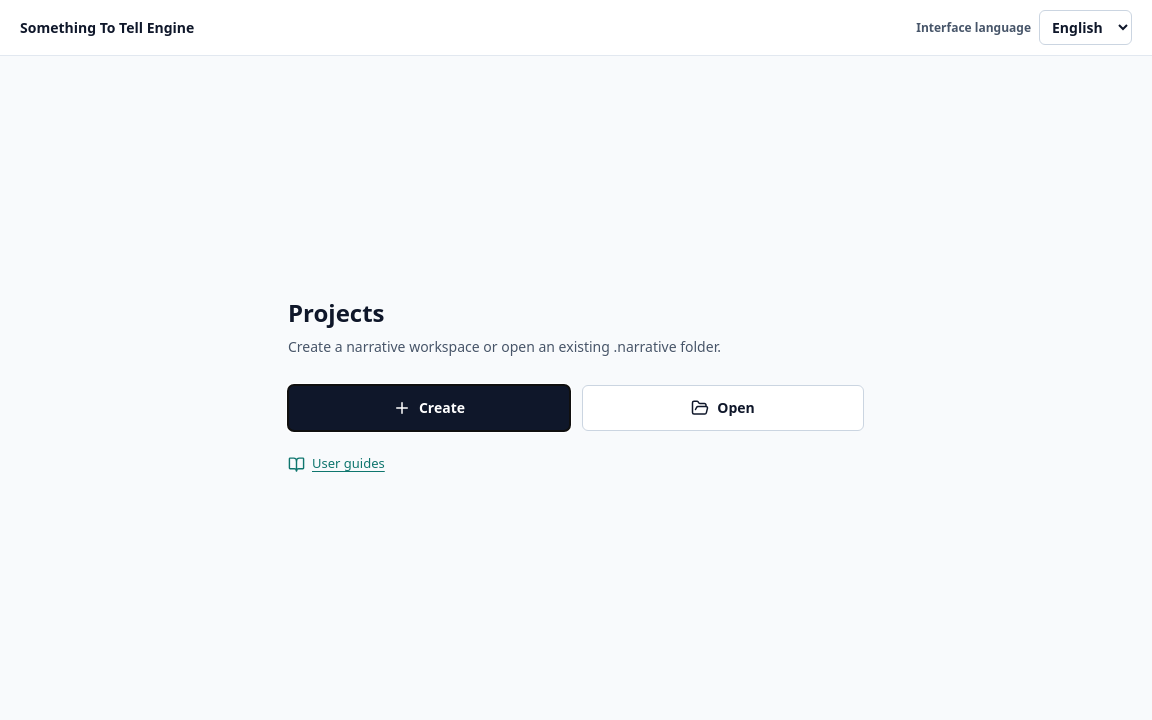
Test: App shell, sessions, and playback › selects a Create parent from the browser directory tree
This screenshot has width=1152, height=720.
Click the button "Create". click: (429, 408)
box: [288,385,570,431]
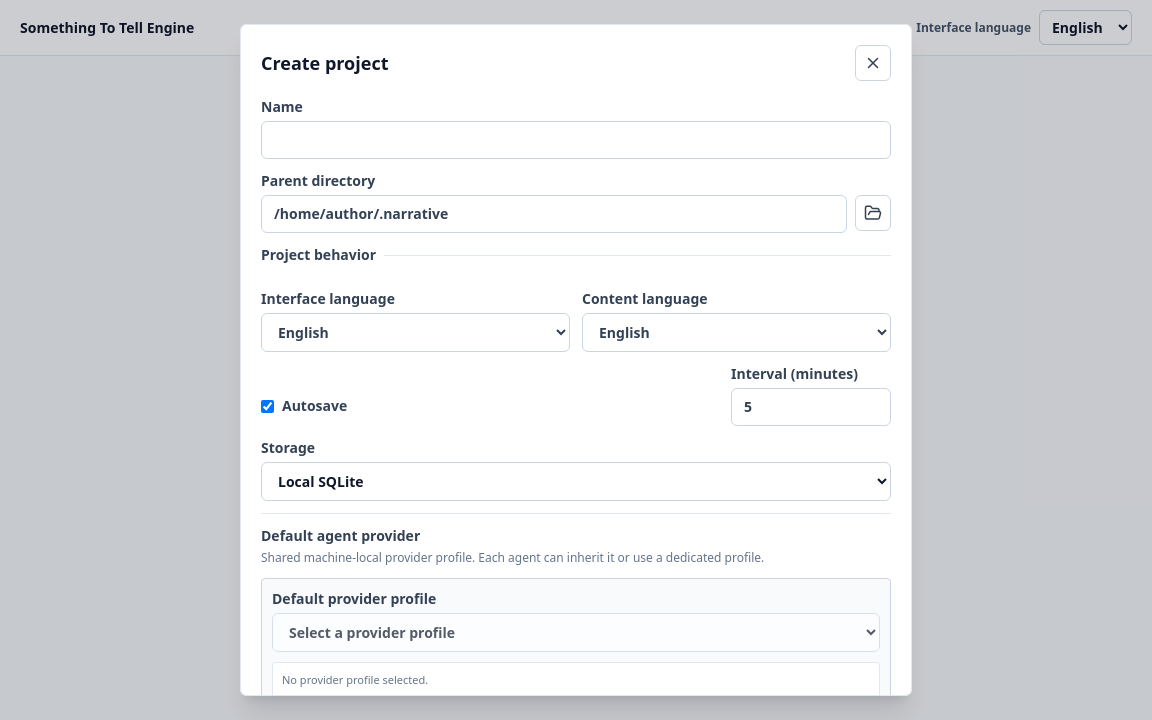
Click the button titled "Choose parent directory". click: (873, 213)
box: [855,195,891,231]
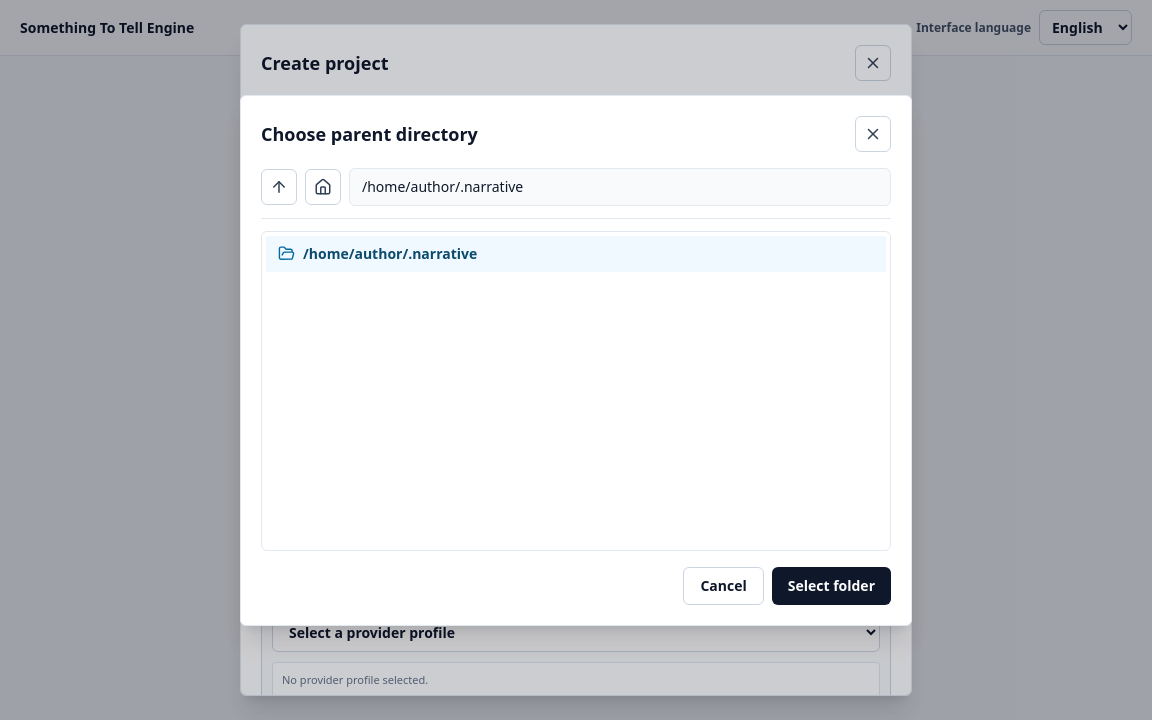
Now the heading "Choose parent directory" is shown, box [261,120,478,148]
Click the button titled "Parent directory". click: (279, 186)
box: [261,168,297,204]
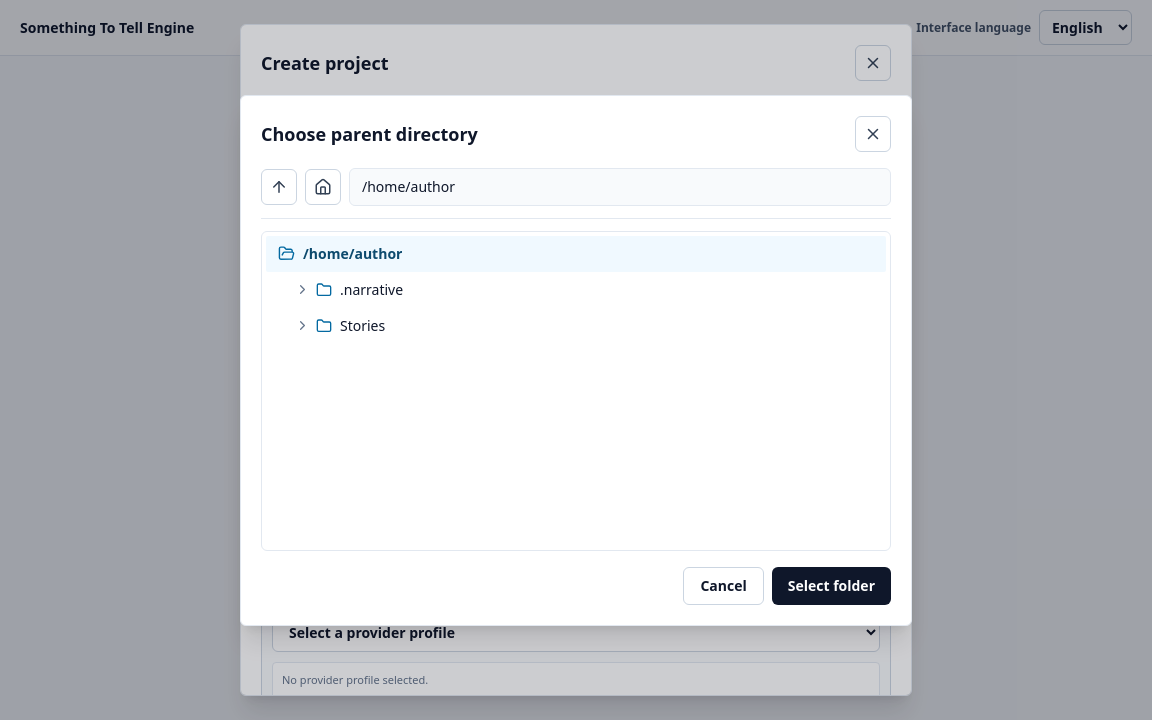
Click the button "Stories". click: (363, 325)
box: [316,312,886,340]
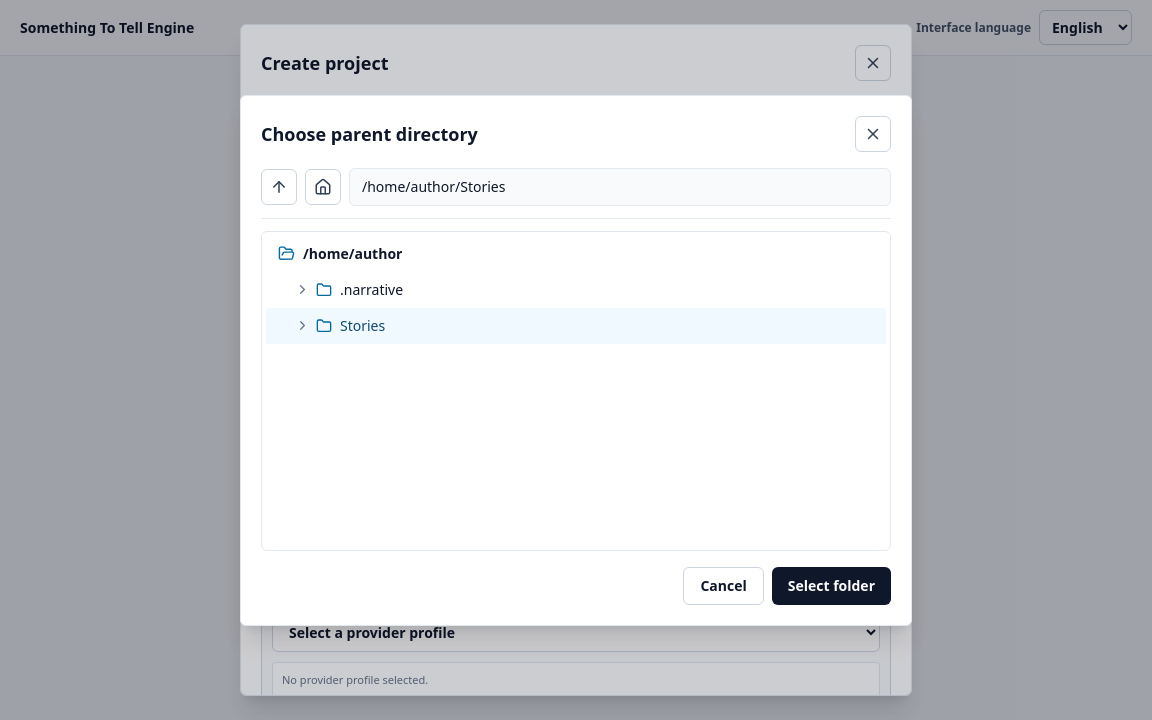
Click the button "Select folder". click: (831, 586)
box: [772,566,891,604]
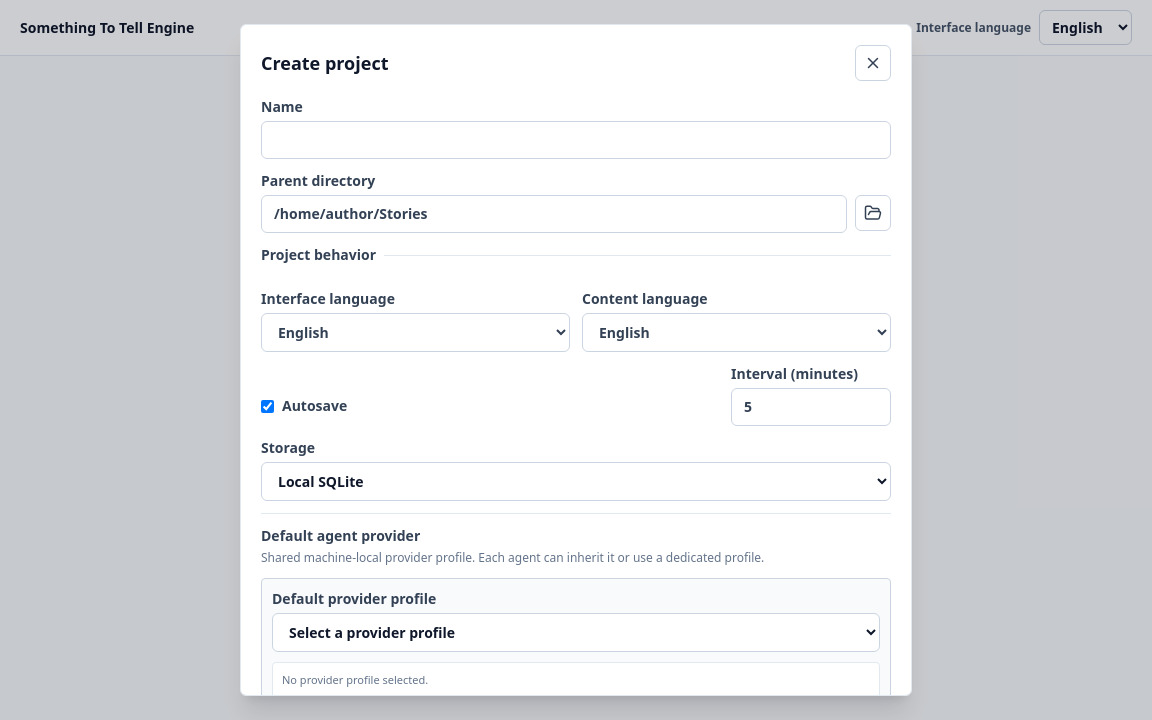
Now the field labelled "Parent directory" holds "/home/author/Stories", box [261,195,847,233]
